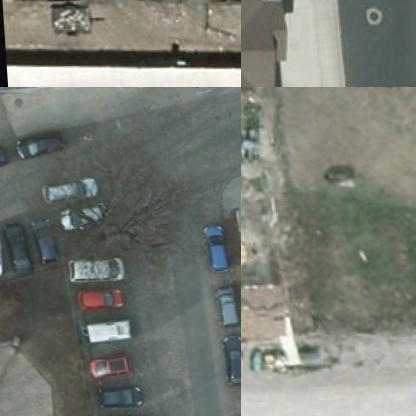car: (36, 168, 92, 203), (10, 127, 60, 160), (0, 219, 31, 272), (21, 214, 53, 265), (215, 331, 240, 388), (64, 256, 116, 282), (56, 200, 108, 226), (196, 223, 222, 272), (80, 350, 122, 376), (208, 280, 232, 324), (74, 286, 118, 308), (86, 385, 134, 403)
